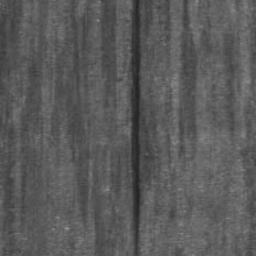Scratches: (130, 0, 141, 256)
